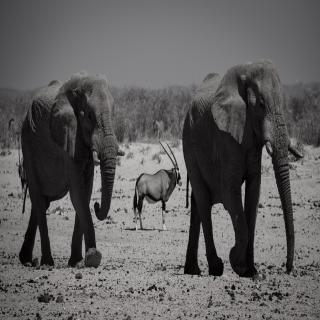Elephant: (182, 58, 304, 280), (17, 69, 126, 270)
